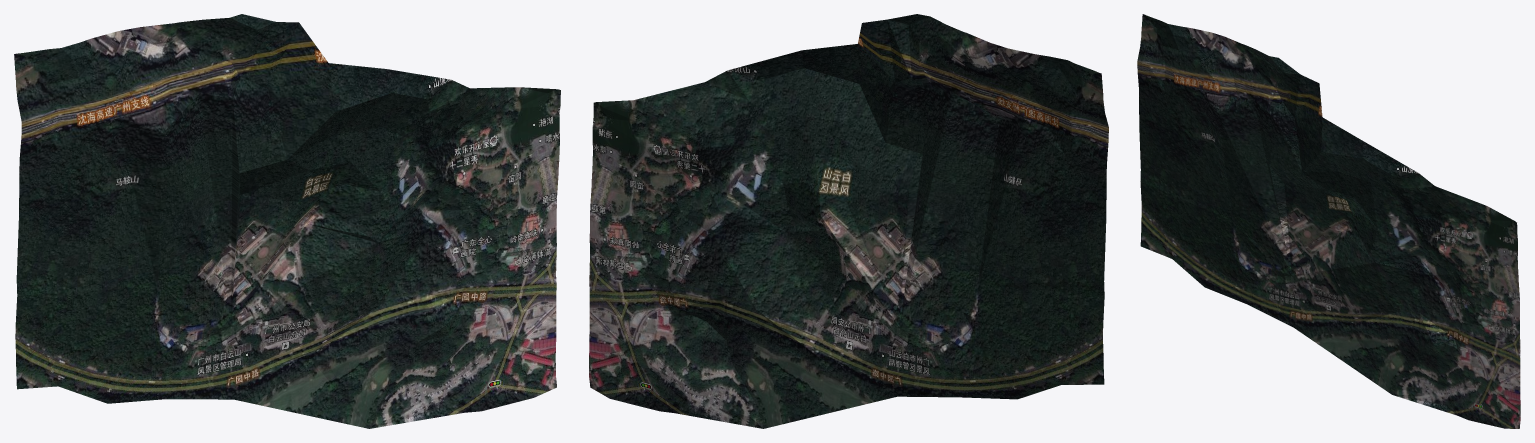
3 renders of one model, left to right at view 1: azimuth 30°, elevation 25°; view 2: azimuth 150°, elevation 25°; view 3: azimuth 330°, elevation 25°, orthographic. The views are drawn at different scales.
Parts seen in each view (by area): view 1: 0_0_1_2_2; view 2: 0_0_1_2_2; view 3: 0_0_1_2_2.
Part boxes in pixels (x1,y1,x2,y2): 0_0_1_2_2: [14, 14, 560, 428]; 0_0_1_2_2: [589, 14, 1108, 428]; 0_0_1_2_2: [1137, 14, 1520, 428].
Bounding box in the file's own units: 972 × 808 × 111.
Materials: 1 (1 with a texture image).
